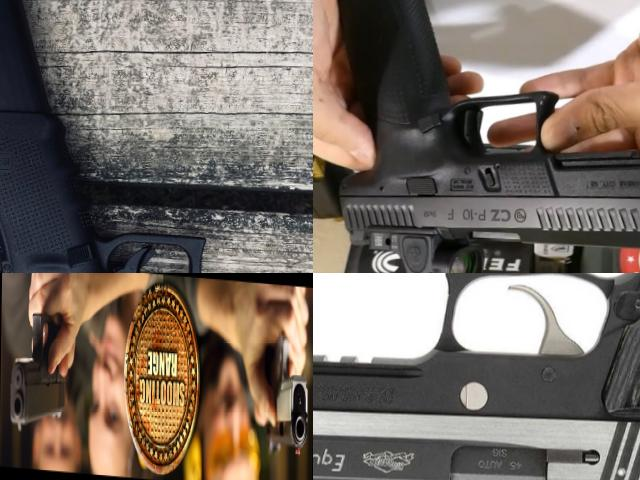handgun: (318, 0, 640, 273), (313, 273, 640, 480), (0, 100, 313, 273), (8, 294, 68, 437), (259, 316, 310, 459)
